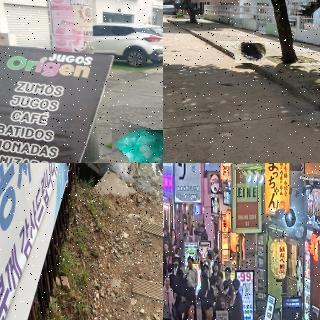Garbage: (109, 125, 163, 163), (234, 41, 266, 65), (140, 163, 163, 176)
